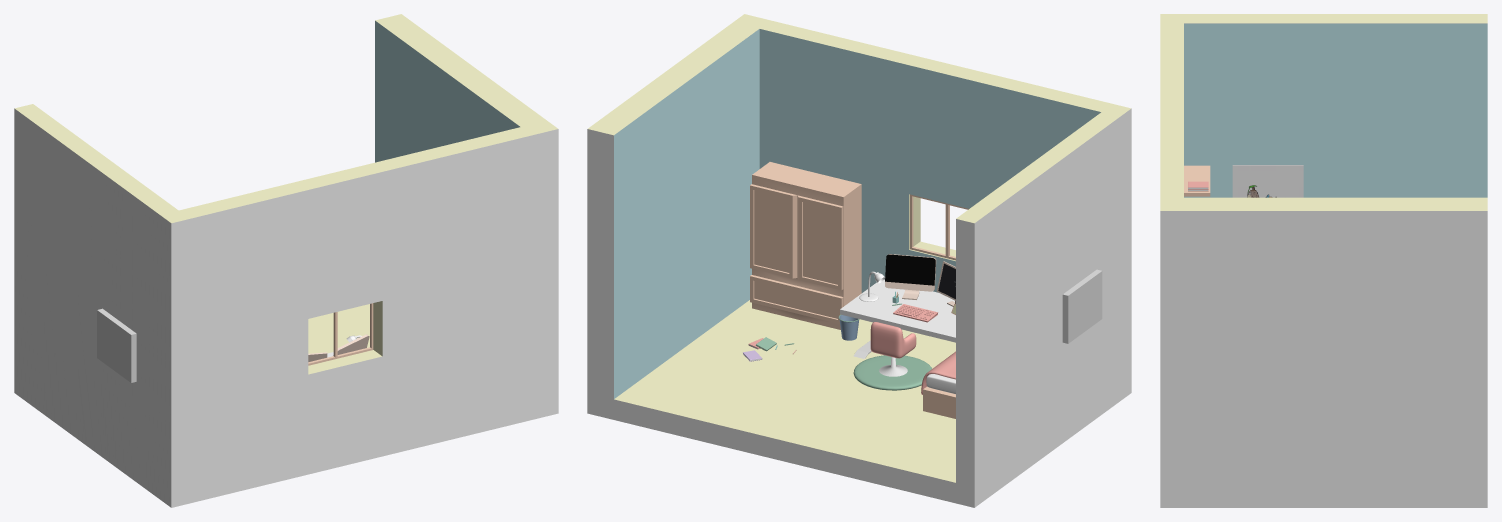
Rendered from Study_Room_26.glb.
3 views of the same model, side by side, from view 1: azimuth 30°, elevation 25°; view 2: azimuth 150°, elevation 25°; view 3: azimuth 270°, elevation 25° (orthographic). The views are drawn at different scales.
Parts seen in each view (by area): view 1: Room, Poster, Window Frame; view 2: Room, Closet, Table Top, Poster, Rug, Desktop Screen, Chair, Bedframe, Window Frame; view 3: Room, Poster.001, Shelf.001.
Part boxes in pixels (left/top/right/bottom): Room: left=14, top=14, right=558, bottom=507; Poster: left=97, top=308, right=136, bottom=382; Window Frame: left=308, top=303, right=373, bottom=365; Room: left=587, top=14, right=1131, bottom=507; Closet: left=750, top=162, right=861, bottom=329; Table Top: left=840, top=279, right=955, bottom=342; Poster: left=1062, top=269, right=1102, bottom=343; Rug: left=853, top=355, right=931, bottom=390; Desktop Screen: left=885, top=254, right=935, bottom=285; Chair: left=870, top=322, right=916, bottom=358; Bedframe: left=923, top=386, right=955, bottom=418; Window Frame: left=910, top=194, right=968, bottom=260; Room: left=1160, top=14, right=1487, bottom=507; Poster.001: left=1232, top=165, right=1303, bottom=197; Shelf.001: left=1184, top=165, right=1210, bottom=196.
Bounding box in the file's own units: 28.12 × 19.48 × 19.48.
Materials: 29 (4 with a texture image).
